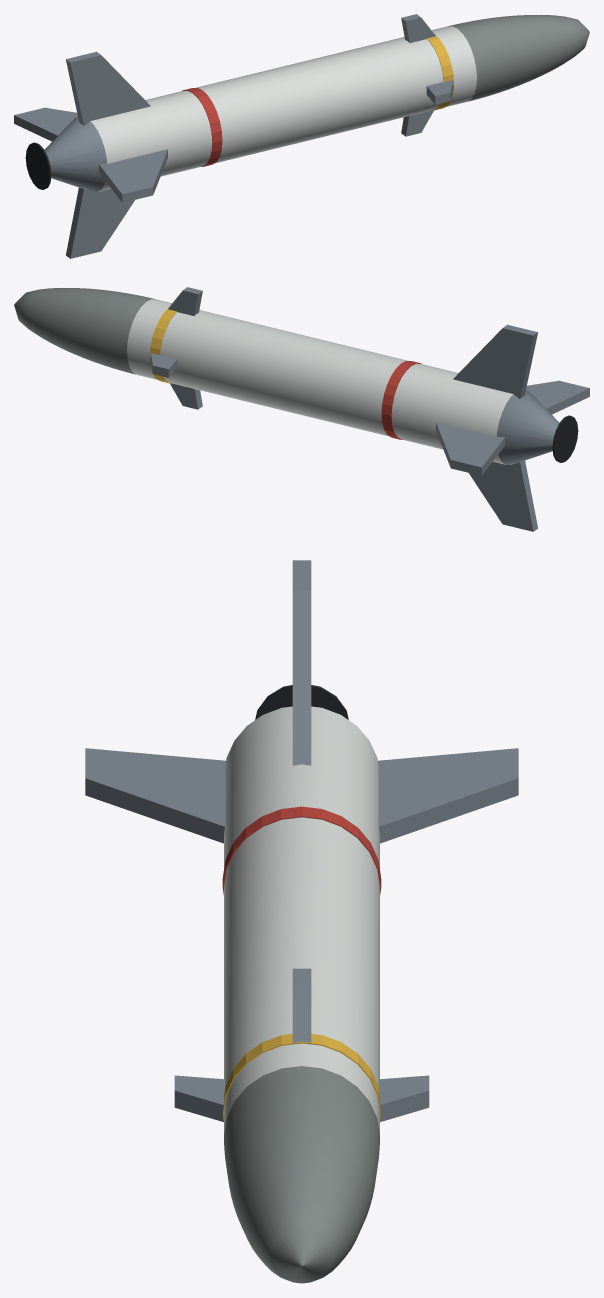
File: paveway_iv.glb
The picture shows the model from 3 angles, top to bottom: view 1: azimuth 30°, elevation 25°; view 2: azimuth 150°, elevation 25°; view 3: azimuth 270°, elevation 25°; orthographic projection. The views are drawn at different scales.
Visible parts, largest first — view 1: missile_body, titanium, seeker, rubber, hazard_red, marking_yellow; view 2: missile_body, titanium, seeker, rubber, hazard_red, marking_yellow; view 3: missile_body, titanium, seeker, hazard_red, marking_yellow, rubber.
Part boxes in pixels (x1=…): missile_body: x1=90, y1=26, x2=476, y2=191; titanium: x1=14, y1=14, x2=453, y2=258; seeker: x1=448, y1=15, x2=589, y2=101; rubber: x1=25, y1=142, x2=51, y2=189; hazard_red: x1=182, y1=87, x2=222, y2=166; marking_yellow: x1=427, y1=35, x2=453, y2=110; missile_body: x1=127, y1=299, x2=513, y2=464; titanium: x1=150, y1=287, x2=589, y2=531; seeker: x1=14, y1=288, x2=155, y2=374; rubber: x1=552, y1=415, x2=578, y2=462; hazard_red: x1=381, y1=360, x2=421, y2=439; marking_yellow: x1=150, y1=308, x2=176, y2=383; missile_body: x1=224, y1=706, x2=379, y2=1134; titanium: x1=85, y1=560, x2=518, y2=1121; seeker: x1=224, y1=1066, x2=379, y2=1283; hazard_red: x1=222, y1=806, x2=381, y2=894; marking_yellow: x1=222, y1=1034, x2=381, y2=1121; rubber: x1=255, y1=685, x2=348, y2=719.
Bounding box in the file's own units: 10 × 3.4 × 3.4.
